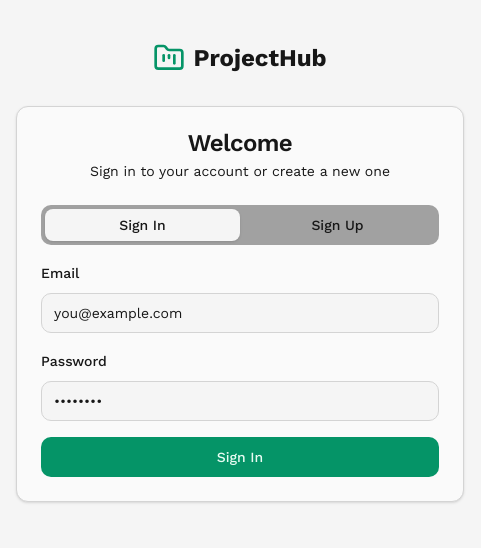
it: Auth Page › displays validation errors
What coordinates should you click on to do the following:
click the button "Sign In"
I would click on:
 (240, 457)
Its box is [41,437,439,477].
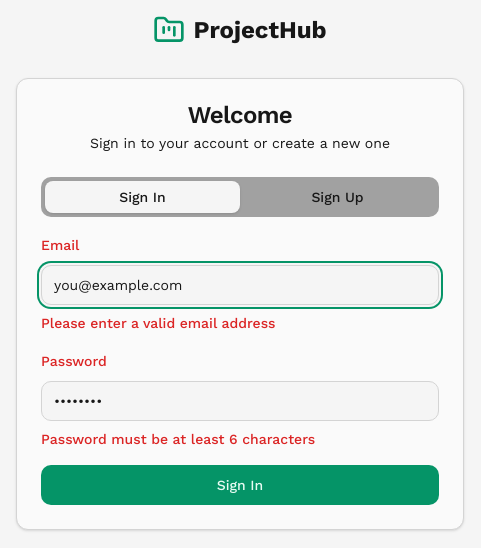
Expected: the text "Please enter a valid email address" is shown, [41,315,276,331]
